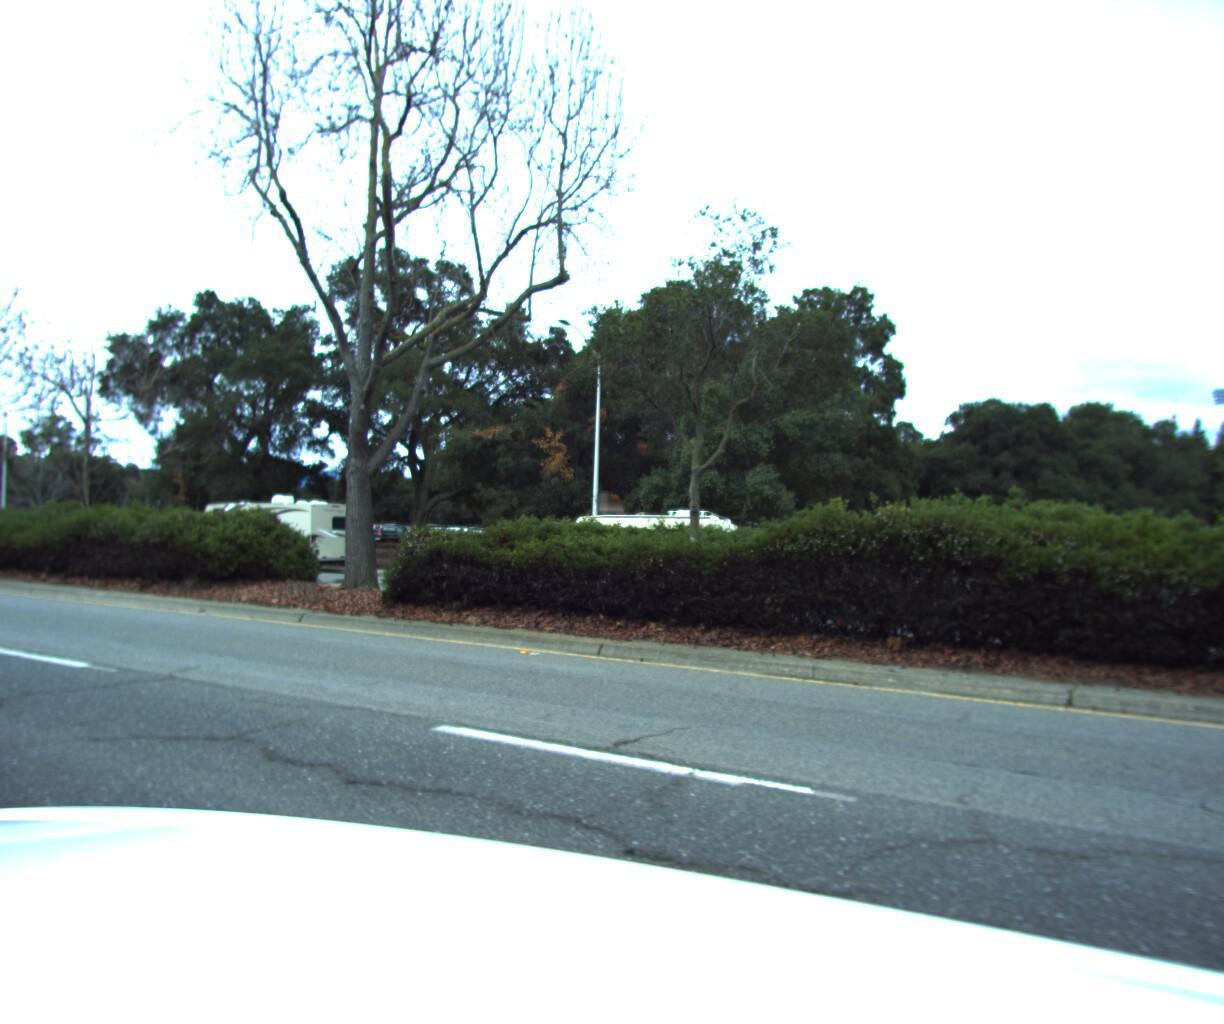other_vehicle: (539, 504, 752, 593), (189, 487, 362, 570)
